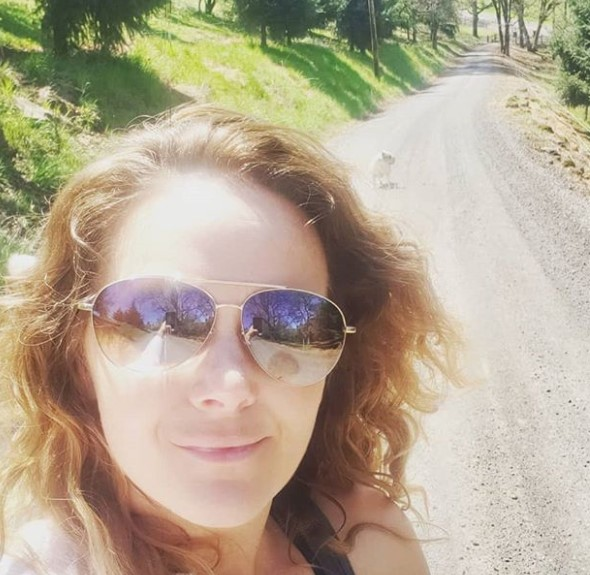face_no_mask: (73, 140, 339, 537)
